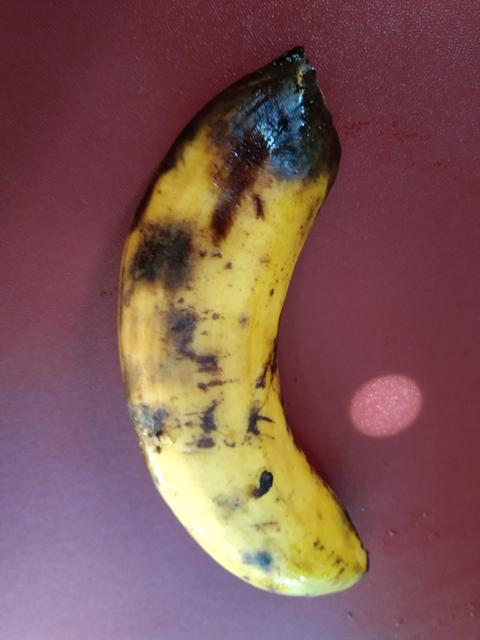overripe: (99, 243, 392, 628)
rotten: (114, 34, 349, 340)
